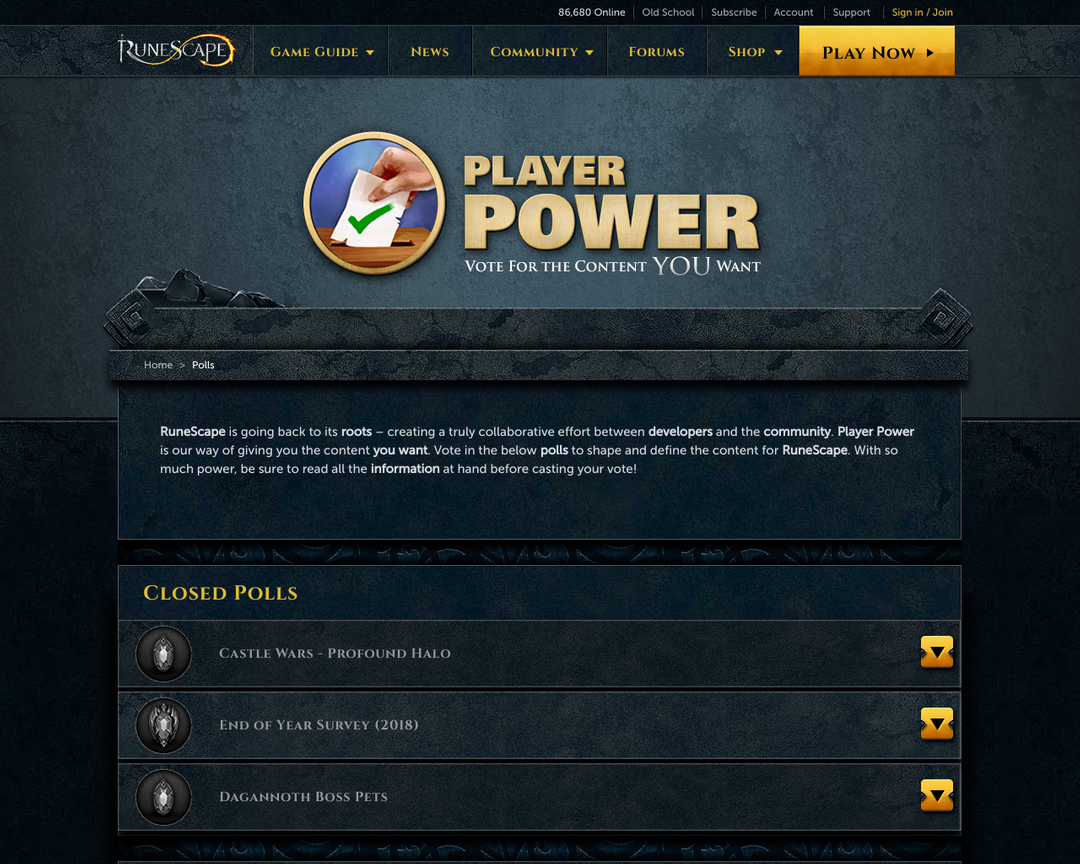Runescape: (108, 31, 246, 71)
